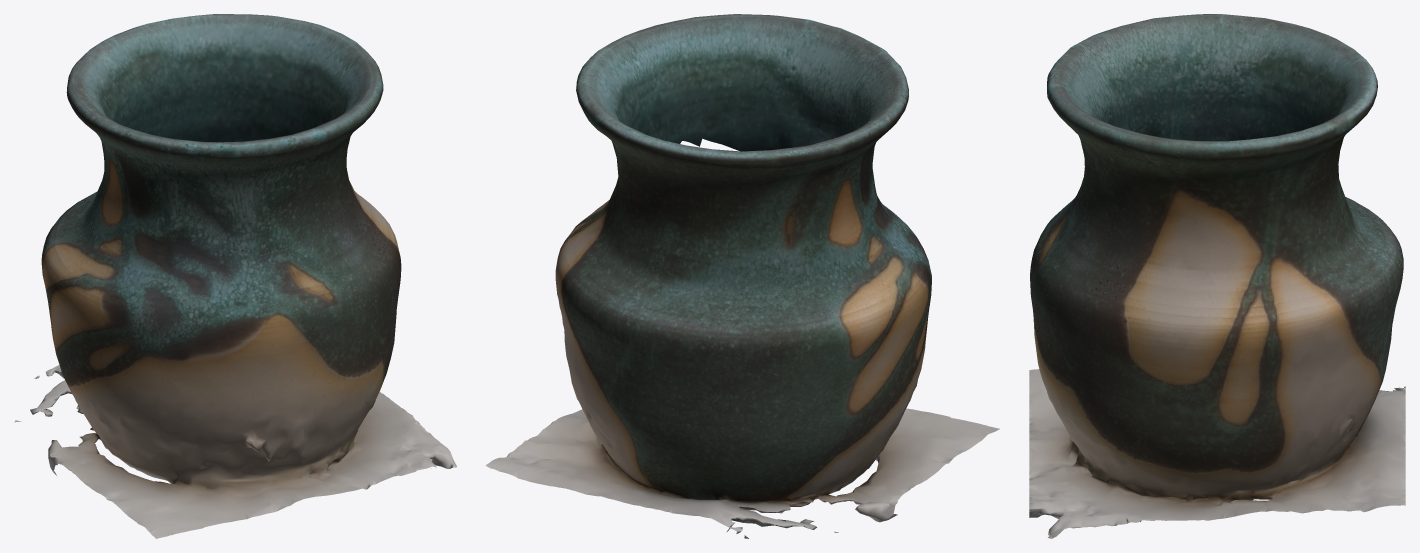
Rendered from 3DModel_LowPoly.gltf.
The picture shows the model from 3 angles, left to right: view 1: azimuth 30°, elevation 25°; view 2: azimuth 150°, elevation 25°; view 3: azimuth 270°, elevation 25°; orthographic projection. The views are drawn at different scales.
Parts seen in each view (by area): view 1: 3DModel_LowPoly; view 2: 3DModel_LowPoly; view 3: 3DModel_LowPoly.
Boxes of the visible parts, x1=… form: 3DModel_LowPoly: x1=14, y1=14, x2=456, y2=538; 3DModel_LowPoly: x1=485, y1=14, x2=999, y2=538; 3DModel_LowPoly: x1=1029, y1=14, x2=1405, y2=538.
Size of the model in its own units: 5.8 by 6.6 by 5.85.
Materials: 1 (1 with a texture image).
